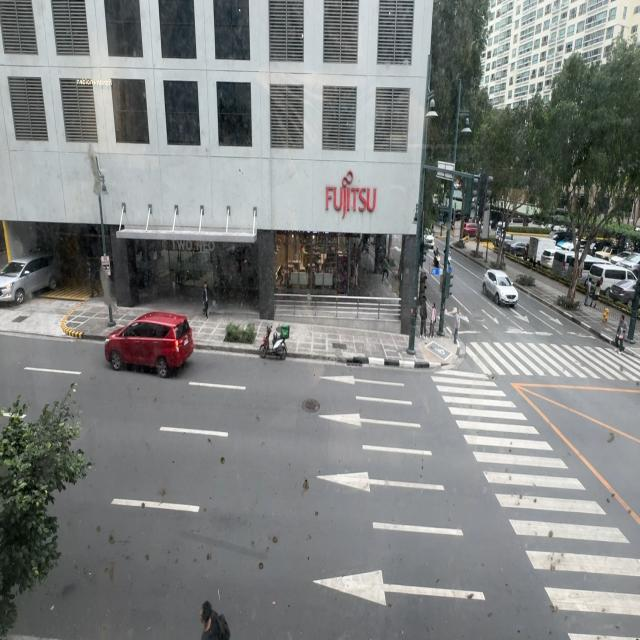crossing: (613, 304, 630, 360)
pedestrain: (202, 282, 209, 320), (594, 277, 602, 307), (584, 277, 591, 306)
waiting: (419, 296, 428, 338), (453, 306, 461, 345), (429, 302, 437, 338)
